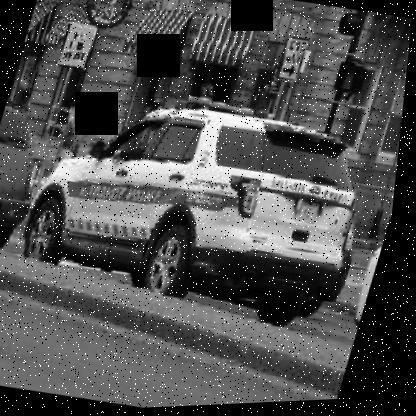emergency: (0, 61, 408, 369)
